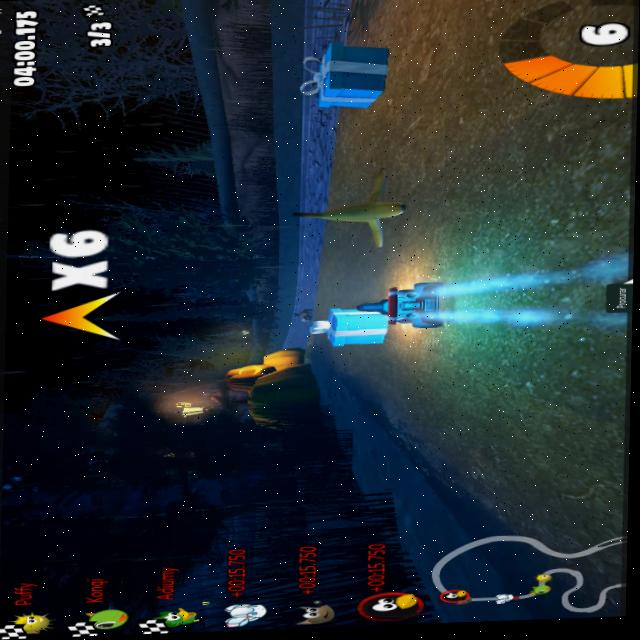bonus: (299, 35, 401, 117), (315, 296, 390, 357)
obstacle: (300, 178, 414, 253)
